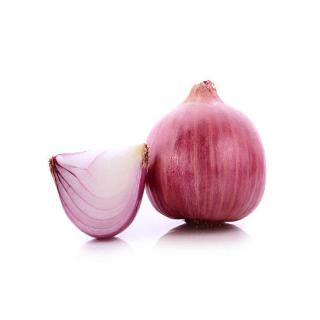Bawang Merah: (141, 77, 271, 229)
